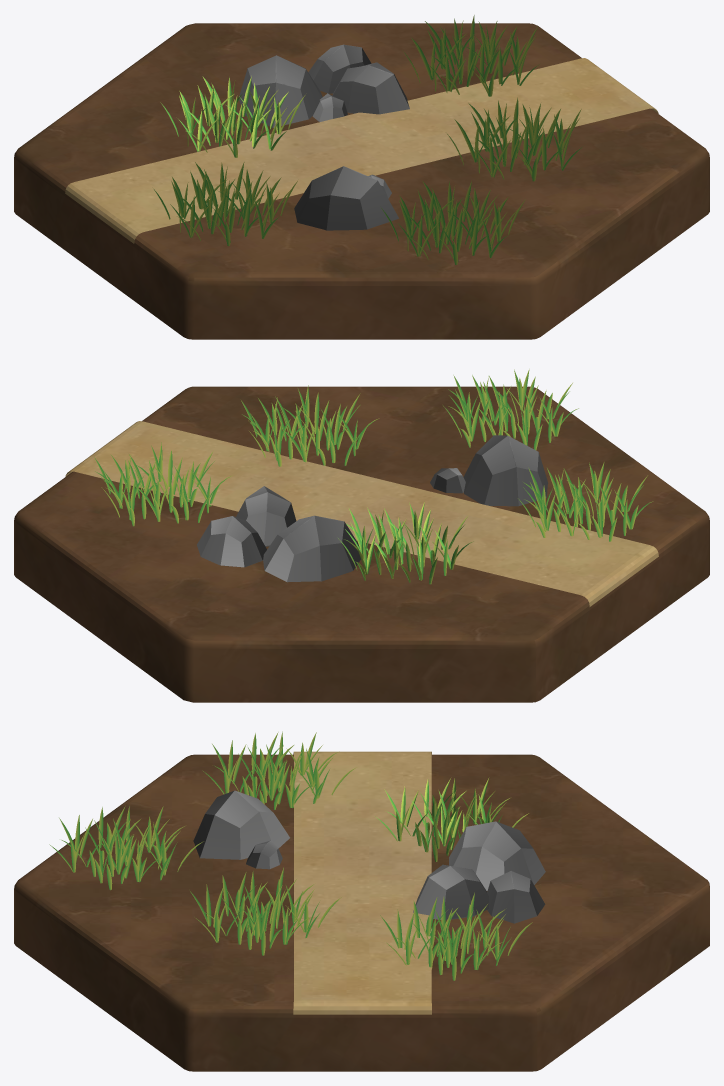
The model's file is Road_TutType0.fbx.
3 views of the same model, one above another, from view 1: azimuth 30°, elevation 25°; view 2: azimuth 150°, elevation 25°; view 3: azimuth 270°, elevation 25° (orthographic).
Visible parts, largest first — view 1: Object013; view 2: Object013; view 3: Object013.
Boxes of the visible parts, x1,y1,x2,y2 form: Object013: [14, 15, 709, 339]; Object013: [14, 369, 709, 702]; Object013: [14, 731, 709, 1071].
Bounding box in the file's own units: 86.6 × 17.74 × 99.25.
